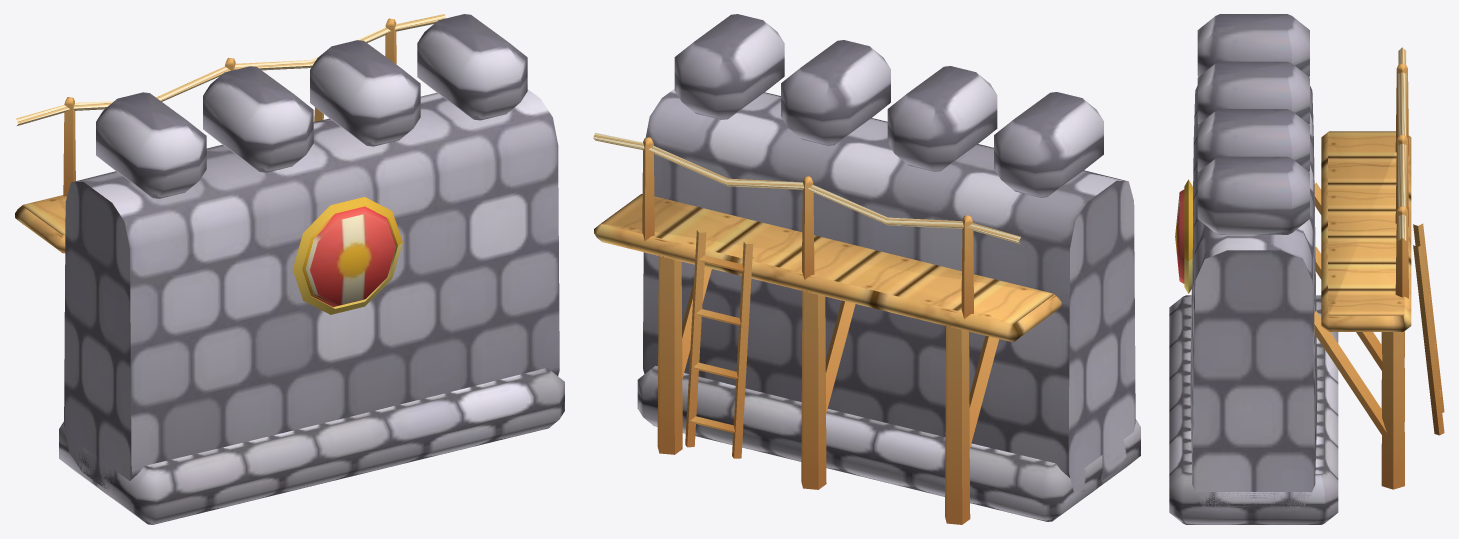
File: stone_wall.glb
The picture shows the model from 3 angles, left to right: view 1: azimuth 30°, elevation 25°; view 2: azimuth 150°, elevation 25°; view 3: azimuth 270°, elevation 25°; orthographic projection. The views are drawn at different scales.
Parts seen in each view (by area): view 1: stone_wall; view 2: stone_wall; view 3: stone_wall.
Part boxes in pixels (x1,y1,x2,y2): stone_wall: (15,14,564,524); stone_wall: (593,14,1140,524); stone_wall: (1169,14,1444,524).
Bounding box in the file's own units: 4 × 3.36 × 2.44.
Materials: 2 (2 with a texture image).
